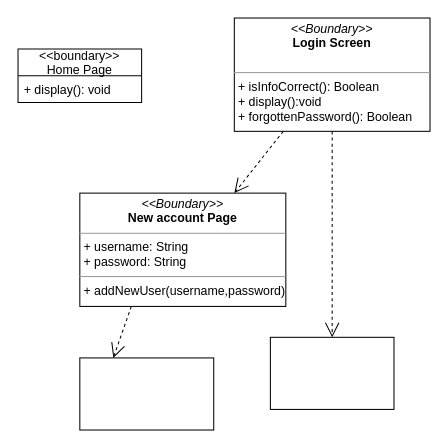
This 448x448 diagram has some shape labels left out. Here are the shapes that lost their labels. From the top down, the box of each, then its label:
(269, 336, 394, 409): <<Entity>> Account + display(): void
(79, 357, 214, 430): <<Entity>> Master Account List + display(): void
